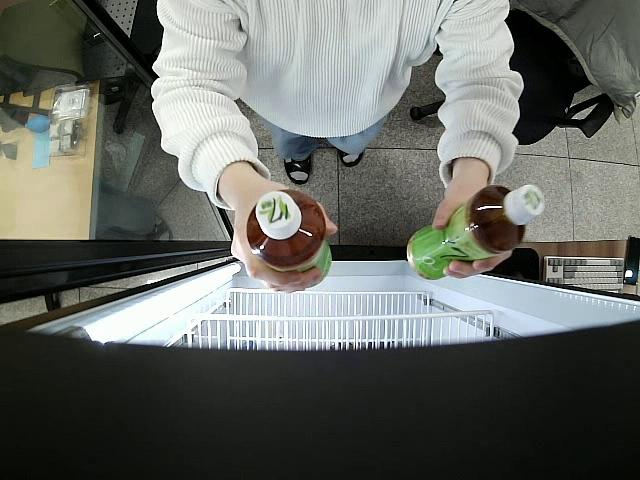00_hand: (232, 177, 339, 294), (433, 181, 513, 279)
19_17cha: (406, 184, 544, 281), (246, 189, 331, 289)
